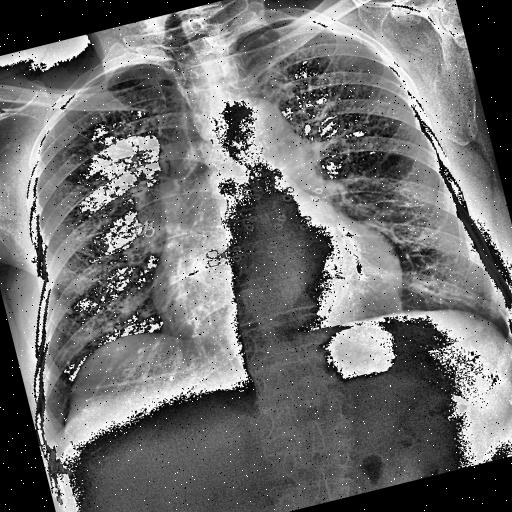0- Aortic enlargement: (202, 90, 306, 186), (208, 90, 297, 170), (213, 94, 298, 174)
11- Pleural thickening: (106, 63, 138, 81)
13- Pulmonary fibrosis: (365, 188, 427, 220)
3- Cardiomegaly: (144, 209, 410, 365), (146, 213, 415, 367), (150, 229, 415, 379)
7- Lung Opacity: (56, 324, 162, 412)
8- Nodule-Mass: (62, 306, 72, 314)
9- Other lesion: (56, 324, 162, 412)
